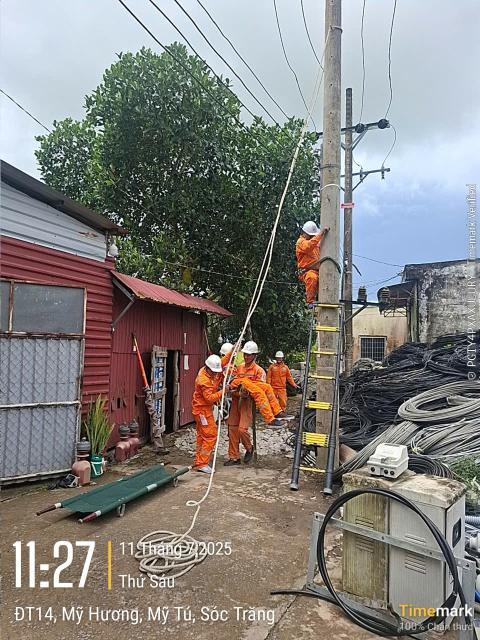harness: (223, 372, 241, 388)
helmet: (203, 354, 226, 375), (216, 341, 239, 358), (300, 221, 320, 236), (243, 343, 256, 359), (272, 348, 285, 361)
shoes: (196, 464, 217, 477), (217, 456, 242, 466), (304, 299, 319, 313), (262, 418, 282, 428), (277, 411, 297, 421), (242, 447, 254, 461)
